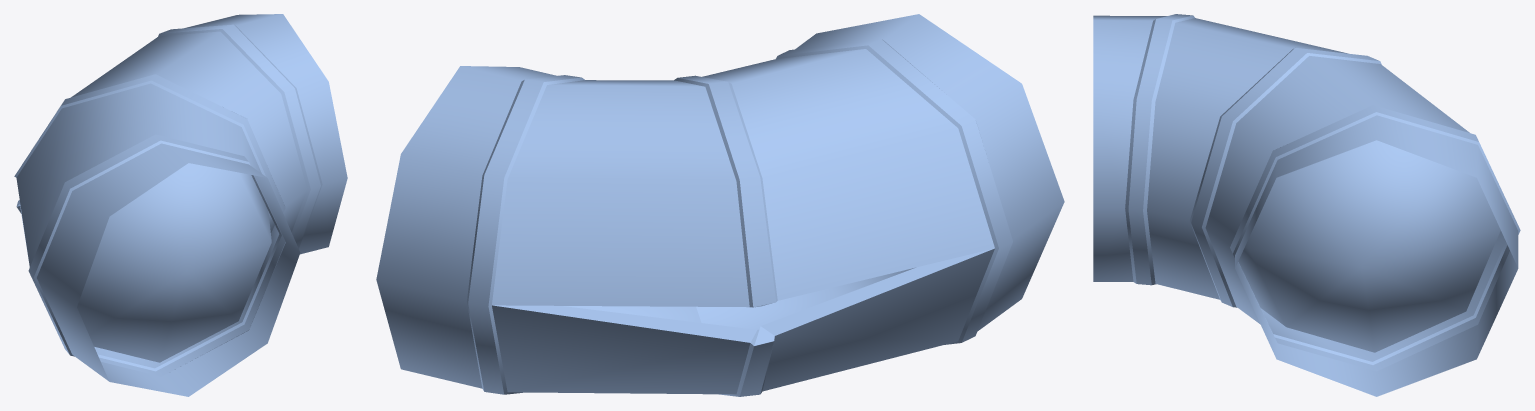
File: PipeSmall_BrokenStepped_Bent_01.fbx
3 views of the same model, side by side, from view 1: azimuth 30°, elevation 25°; view 2: azimuth 150°, elevation 25°; view 3: azimuth 270°, elevation 25° (orthographic). The views are drawn at different scales.
Parts seen in each view (by area): view 1: PipeSmall_BrokenStepped_Bent_01.001; view 2: PipeSmall_BrokenStepped_Bent_01.001; view 3: PipeSmall_BrokenStepped_Bent_01.001.
Boxes of the visible parts, x1,y1,x2,y2 form: PipeSmall_BrokenStepped_Bent_01.001: (14,14,347,396); PipeSmall_BrokenStepped_Bent_01.001: (376,14,1064,396); PipeSmall_BrokenStepped_Bent_01.001: (1093,14,1520,396).
Bounding box in the file's own units: 0.1508 × 0.1016 × 0.1508.
